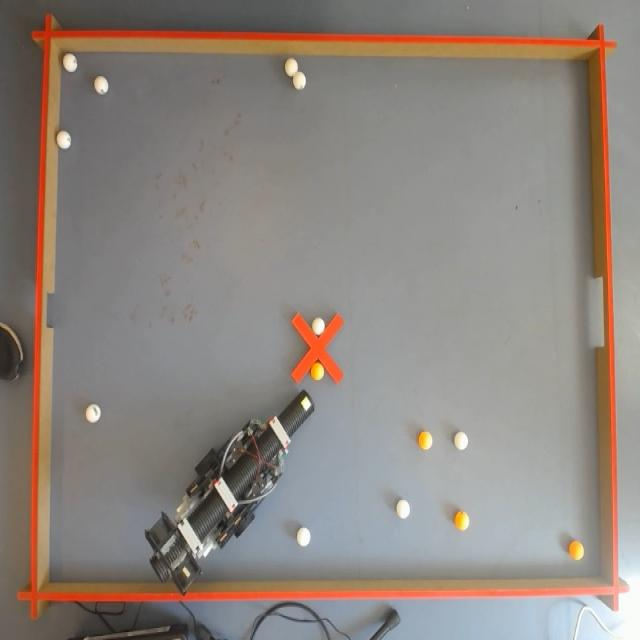orange: (569, 542, 587, 562), (415, 432, 431, 452), (453, 510, 468, 530), (310, 360, 322, 381)
robot: (148, 392, 313, 600)
white: (285, 56, 300, 76), (94, 76, 108, 96), (63, 54, 77, 74), (57, 130, 70, 150), (454, 430, 467, 450), (396, 501, 409, 520), (298, 528, 309, 548), (88, 406, 100, 424), (296, 71, 307, 90), (312, 315, 322, 333)
